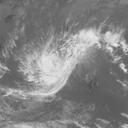cyclone: (24, 48, 70, 98)
